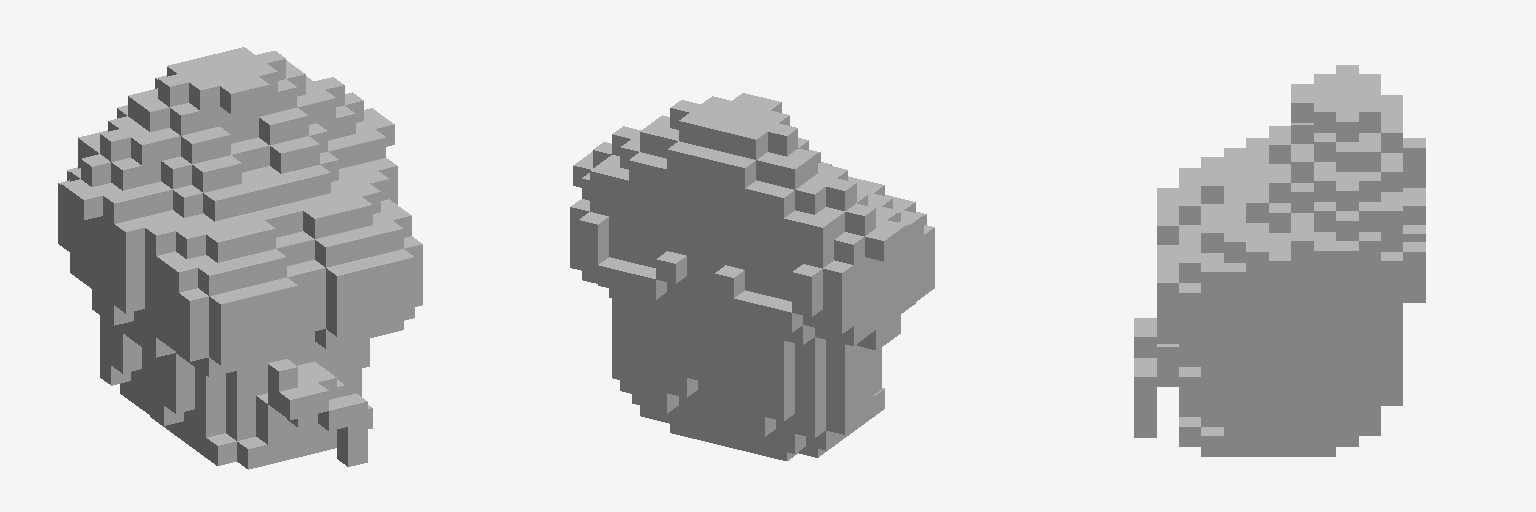
Rendered from UpperBody_04.obj.
3 views of the same model, side by side, from view 1: azimuth 30°, elevation 25°; view 2: azimuth 150°, elevation 25°; view 3: azimuth 270°, elevation 25° (orthographic).
Visible parts, largest first — view 1: UppoerBody_04; view 2: UppoerBody_04; view 3: UppoerBody_04.
Boxes of the visible parts, x1=… form: UppoerBody_04: x1=58, y1=47, x2=422, y2=469; UppoerBody_04: x1=570, y1=93, x2=934, y2=460; UppoerBody_04: x1=1134, y1=65, x2=1425, y2=456.
Size of the model in its own units: 1.6 by 1.6 by 1.3.